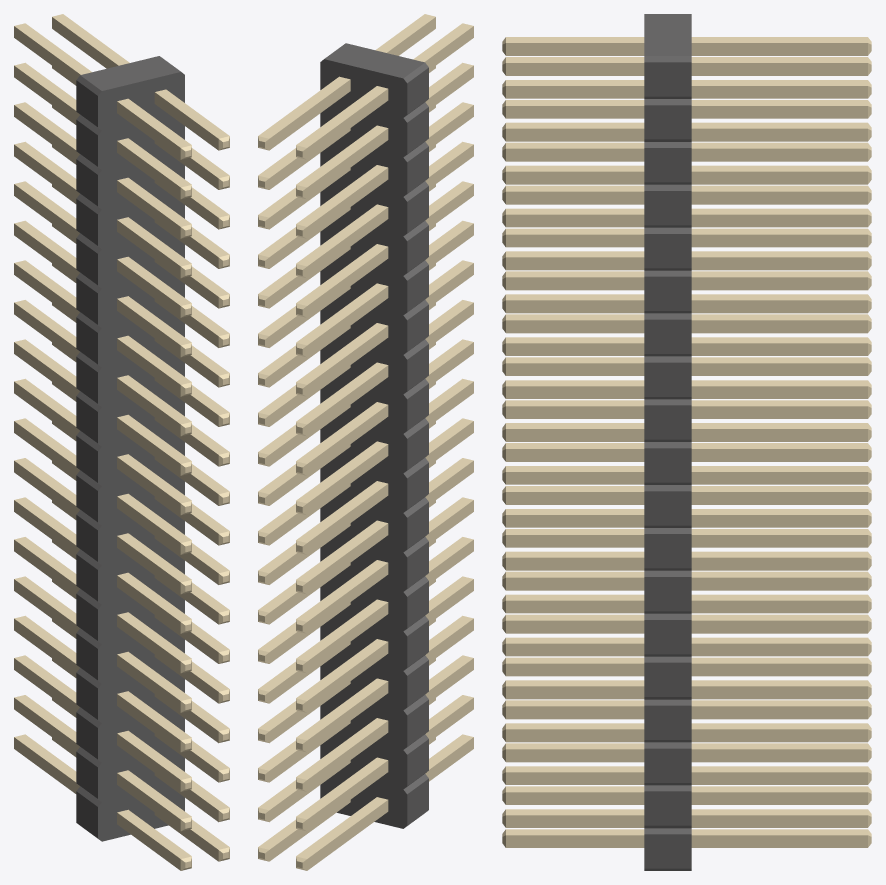
The model's file is PinHeader_2x19_P1.00mm_Vertical.glb.
3 views of the same model, side by side, from view 1: azimuth 30°, elevation 25°; view 2: azimuth 150°, elevation 25°; view 3: azimuth 270°, elevation 25° (orthographic). The views are drawn at different scales.
Visible parts, largest first — view 1: Shape_IndexedFaceSet.003, Shape_IndexedFaceSet.001, Shape_IndexedFaceSet.195, Shape_IndexedFaceSet.299, Shape_IndexedFaceSet.393, Shape_IndexedFaceSet.241, Shape_IndexedFaceSet.147, Shape_IndexedFaceSet.342, Shape_IndexedFaceSet.118, Shape_IndexedFaceSet.230, Shape_IndexedFaceSet.357, Shape_IndexedFaceSet.157 (+107 smaller); view 2: Shape_IndexedFaceSet.004, Shape_IndexedFaceSet.001, Shape_IndexedFaceSet.393, Shape_IndexedFaceSet.299, Shape_IndexedFaceSet.326, Shape_IndexedFaceSet.335, Shape_IndexedFaceSet.347, Shape_IndexedFaceSet.357, Shape_IndexedFaceSet.382, Shape_IndexedFaceSet.386, Shape_IndexedFaceSet.270, Shape_IndexedFaceSet.282 (+107 smaller); view 3: Shape_IndexedFaceSet.272, Shape_IndexedFaceSet.275, Shape_IndexedFaceSet.279, Shape_IndexedFaceSet.289, Shape_IndexedFaceSet.292, Shape_IndexedFaceSet.301, Shape_IndexedFaceSet.304, Shape_IndexedFaceSet.360, Shape_IndexedFaceSet.364, Shape_IndexedFaceSet.367, Shape_IndexedFaceSet.373, Shape_IndexedFaceSet.381 (+160 smaller).
Part boxes in pixels (left/top/right/bottom): Shape_IndexedFaceSet.003: left=98, top=72, right=184, bottom=841; Shape_IndexedFaceSet.001: left=80, top=56, right=180, bottom=90; Shape_IndexedFaceSet.195: left=154, top=92, right=218, bottom=150; Shape_IndexedFaceSet.299: left=14, top=618, right=79, bottom=675; Shape_IndexedFaceSet.393: left=14, top=223, right=79, bottom=280; Shape_IndexedFaceSet.241: left=117, top=299, right=180, bottom=356; Shape_IndexedFaceSet.147: left=117, top=694, right=180, bottom=751; Shape_IndexedFaceSet.342: left=14, top=26, right=80, bottom=82; Shape_IndexedFaceSet.118: left=117, top=575, right=180, bottom=633; Shape_IndexedFaceSet.230: left=117, top=338, right=180, bottom=396; Shape_IndexedFaceSet.357: left=14, top=65, right=79, bottom=122; Shape_IndexedFaceSet.157: left=117, top=654, right=180, bottom=712; Shape_IndexedFaceSet.004: left=320, top=59, right=407, bottom=828; Shape_IndexedFaceSet.001: left=324, top=43, right=424, bottom=78; Shape_IndexedFaceSet.393: left=307, top=286, right=388, bottom=356; Shape_IndexedFaceSet.299: left=307, top=681, right=388, bottom=751; Shape_IndexedFaceSet.326: left=307, top=444, right=388, bottom=514; Shape_IndexedFaceSet.335: left=307, top=523, right=388, bottom=593; Shape_IndexedFaceSet.347: left=269, top=79, right=350, bottom=150; Shape_IndexedFaceSet.357: left=307, top=128, right=388, bottom=198; Shape_IndexedFaceSet.382: left=307, top=326, right=388, bottom=396; Shape_IndexedFaceSet.386: left=307, top=365, right=388, bottom=435; Shape_IndexedFaceSet.270: left=307, top=563, right=388, bottom=633; Shape_IndexedFaceSet.282: left=307, top=602, right=388, bottom=672; Shape_IndexedFaceSet.272: left=691, top=557, right=867, bottom=570; Shape_IndexedFaceSet.275: left=691, top=577, right=867, bottom=590; Shape_IndexedFaceSet.279: left=691, top=620, right=867, bottom=633; Shape_IndexedFaceSet.289: left=691, top=749, right=867, bottom=762; Shape_IndexedFaceSet.292: left=691, top=706, right=867, bottom=719; Shape_IndexedFaceSet.301: left=691, top=686, right=867, bottom=699; Shape_IndexedFaceSet.304: left=691, top=729, right=867, bottom=742; Shape_IndexedFaceSet.360: left=691, top=191, right=867, bottom=204; Shape_IndexedFaceSet.364: left=691, top=148, right=867, bottom=161; Shape_IndexedFaceSet.367: left=691, top=128, right=867, bottom=141; Shape_IndexedFaceSet.373: left=691, top=171, right=867, bottom=184; Shape_IndexedFaceSet.381: left=691, top=320, right=867, bottom=333.
Size of the model in its own units: 0.906 by 7.48 by 3.07.
